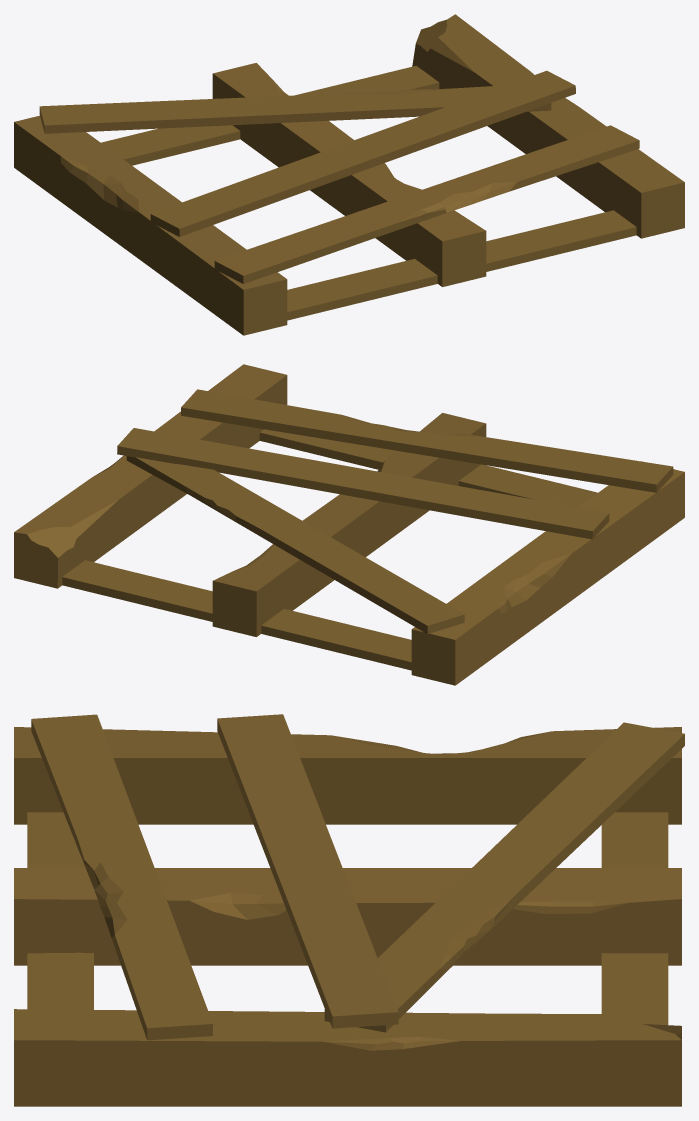
The model's file is BrokenPallet.fbx.
The picture shows the model from 3 angles, top to bottom: view 1: azimuth 30°, elevation 25°; view 2: azimuth 150°, elevation 25°; view 3: azimuth 270°, elevation 25°; orthographic projection. The views are drawn at different scales.
Visible parts, largest first — view 1: Leg1, Leg3, PlankB2, Leg2, PlankB3, PlankB1, PlankA2, PlankA1; view 2: Leg1, Leg3, PlankB2, Leg2, PlankB3, PlankB1, PlankA1, PlankA2; view 3: Leg3, Leg2, Leg1, PlankB3, PlankB2, PlankB1, PlankA1, PlankA2.
Part boxes in pixels (left/top/right/bottom): Leg1: left=14, top=115, right=287, bottom=335; Leg3: left=412, top=14, right=684, bottom=238; PlankB2: left=150, top=70, right=575, bottom=236; Leg2: left=212, top=63, right=486, bottom=286; PlankB3: left=214, top=125, right=639, bottom=283; PlankB1: left=39, top=85, right=551, bottom=133; PlankA2: left=287, top=210, right=636, bottom=320; PlankA1: left=101, top=66, right=439, bottom=165; Leg1: left=411, top=461, right=684, bottom=685; Leg3: left=14, top=364, right=287, bottom=588; PlankB2: left=117, top=428, right=609, bottom=539; Leg2: left=212, top=413, right=486, bottom=636; PlankB3: left=181, top=389, right=673, bottom=492; PlankB1: left=126, top=456, right=464, bottom=633; PlankA1: left=62, top=560, right=411, bottom=670; PlankA2: left=259, top=429, right=597, bottom=507; Leg3: left=14, top=1009, right=681, bottom=1106; Leg2: left=14, top=868, right=681, bottom=965; Leg1: left=14, top=727, right=681, bottom=824; PlankB3: left=31, top=714, right=212, bottom=1040; PlankB2: left=217, top=714, right=398, bottom=1028; PlankB1: left=324, top=722, right=684, bottom=1032; PlankA1: left=601, top=812, right=668, bottom=1025; PlankA2: left=27, top=812, right=93, bottom=1009.
Size of the model in its own units: 11.12 by 1.5 by 10.05.
